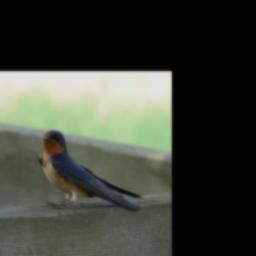Swallow: (37, 128, 161, 213)
